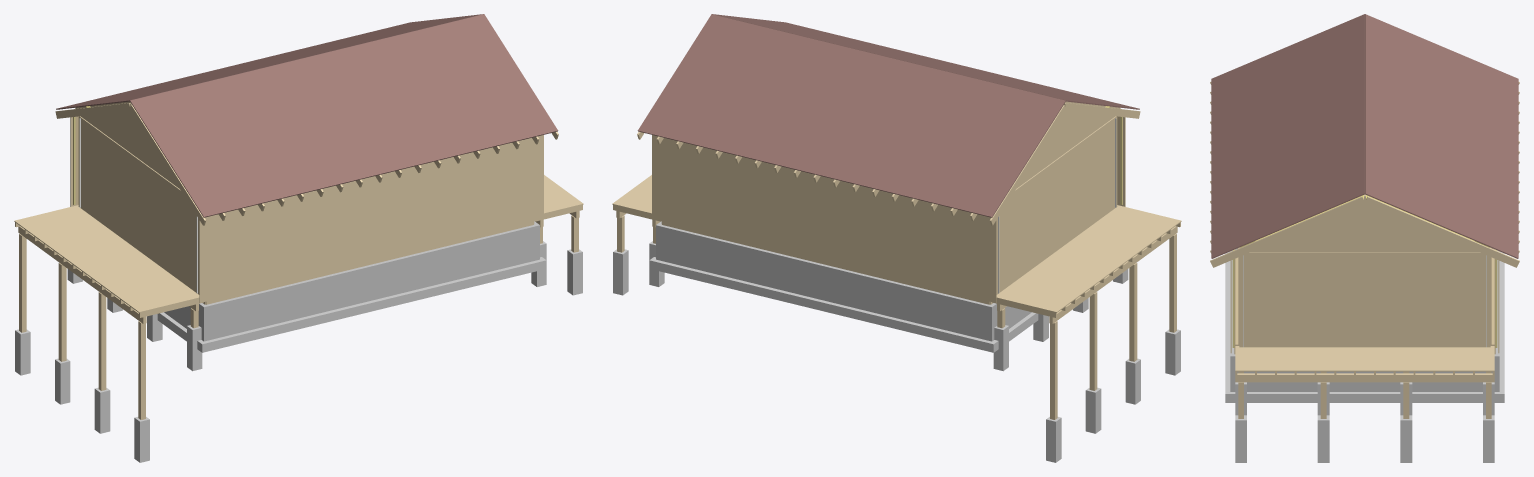
File: cabin2.glb
3 renders of one model, left to right at view 1: azimuth 30°, elevation 25°; view 2: azimuth 150°, elevation 25°; view 3: azimuth 270°, elevation 25°, orthographic. The views are drawn at different scales.
Parts seen in each view (by area): view 1: roof_-1, S_cladding, stem_0, W_cladding, decking_W, footing_0, roof_1, gable_W, sill_0, deckbeam_W1.85-0.025, post_W-6.8-1.0, post_W-6.81.1 (+12 smaller); view 2: roof_1, N_cladding, stem_2, W_cladding, decking_W, footing_2, roof_-1, gable_W, sill_2, deckbeam_W1.85-0.025, post_W-6.8-1.0, post_W-6.81.1 (+12 smaller); view 3: roof_-1, roof_1, E_cladding, decking_E, gable_E, stem_1, footing_1, deckbeam_E1.350.025, rafter_18_-1, rafter_18_1, footing_0, footing_2 (+9 smaller).
Boxes of the visible parts, x1,y1,x2,y2 form: roof_-1: [130, 14, 558, 217]; S_cladding: [199, 135, 543, 302]; stem_0: [199, 222, 539, 341]; W_cladding: [78, 116, 199, 294]; decking_W: [14, 205, 199, 312]; footing_0: [197, 257, 546, 352]; roof_1: [56, 14, 483, 109]; gable_W: [81, 110, 179, 188]; sill_0: [205, 221, 533, 304]; deckbeam_W1.85-0.025: [18, 226, 144, 323]; post_W-6.8-1.0: [98, 292, 106, 390]; post_W-6.81.1: [58, 263, 66, 361]; roof_1: [637, 14, 1065, 217]; N_cladding: [652, 135, 996, 302]; stem_2: [656, 222, 996, 341]; W_cladding: [996, 116, 1117, 294]; decking_W: [996, 205, 1181, 312]; footing_2: [649, 257, 998, 352]; roof_-1: [712, 14, 1139, 109]; gable_W: [1016, 110, 1114, 188]; sill_2: [662, 221, 990, 304]; deckbeam_W1.85-0.025: [1051, 226, 1177, 323]; post_W-6.8-1.0: [1129, 263, 1137, 361]; post_W-6.81.1: [1089, 292, 1097, 390]; roof_-1: [1211, 14, 1364, 258]; roof_1: [1365, 14, 1518, 258]; E_cladding: [1239, 252, 1490, 347]; decking_E: [1235, 346, 1494, 371]; gable_E: [1250, 204, 1479, 252]; stem_1: [1230, 352, 1499, 391]; footing_1: [1225, 386, 1504, 402]; deckbeam_E1.350.025: [1235, 374, 1494, 382]; rafter_18_-1: [1210, 196, 1364, 267]; rafter_18_1: [1365, 196, 1519, 267]; footing_0: [1225, 251, 1235, 402]; footing_2: [1495, 251, 1504, 402].
Bounding box in the file's own units: 13.55 × 8.86 × 7.88.
